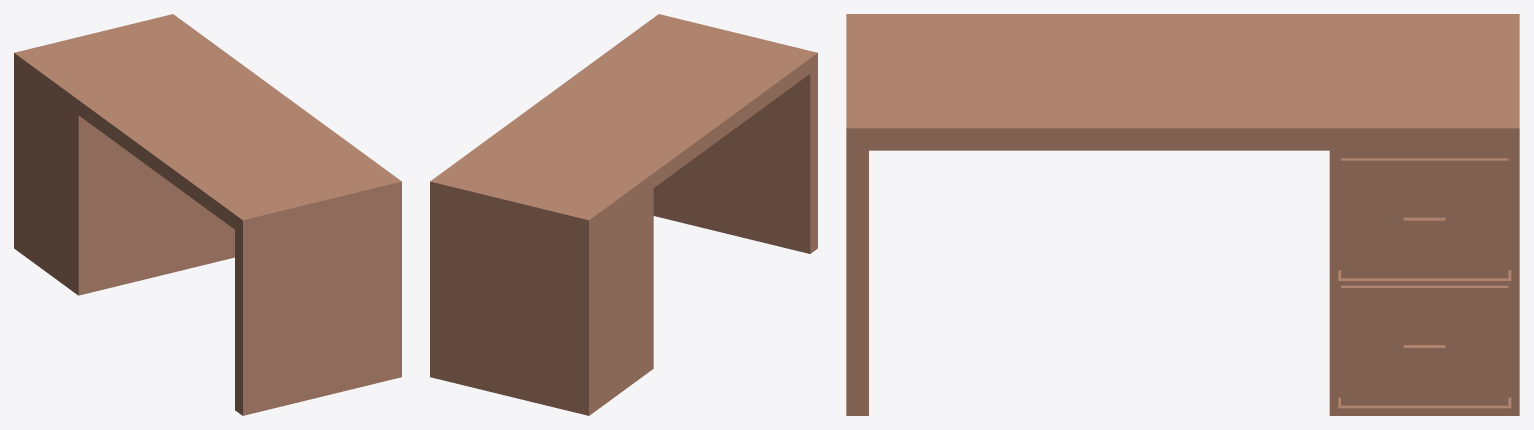
File: BureauPC.fbx
3 renders of one model, left to right at view 1: azimuth 30°, elevation 25°; view 2: azimuth 150°, elevation 25°; view 3: azimuth 270°, elevation 25°, orthographic. The views are drawn at different scales.
Visible parts, largest first — view 1: Cube.016; view 2: Cube.016; view 3: Cube.016.
Boxes of the visible parts, x1=… form: Cube.016: x1=14, y1=14, x2=401, y2=415; Cube.016: x1=430, y1=14, x2=817, y2=415; Cube.016: x1=846, y1=14, x2=1519, y2=415.
Bounding box in the file's own units: 163 × 187 × 397.
